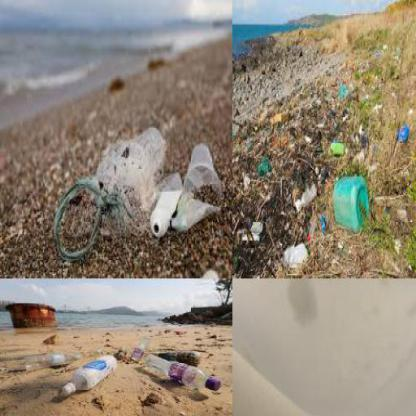Plastic: (141, 355, 223, 399), (330, 176, 375, 235), (57, 353, 117, 397), (186, 138, 217, 196), (148, 184, 182, 234)
